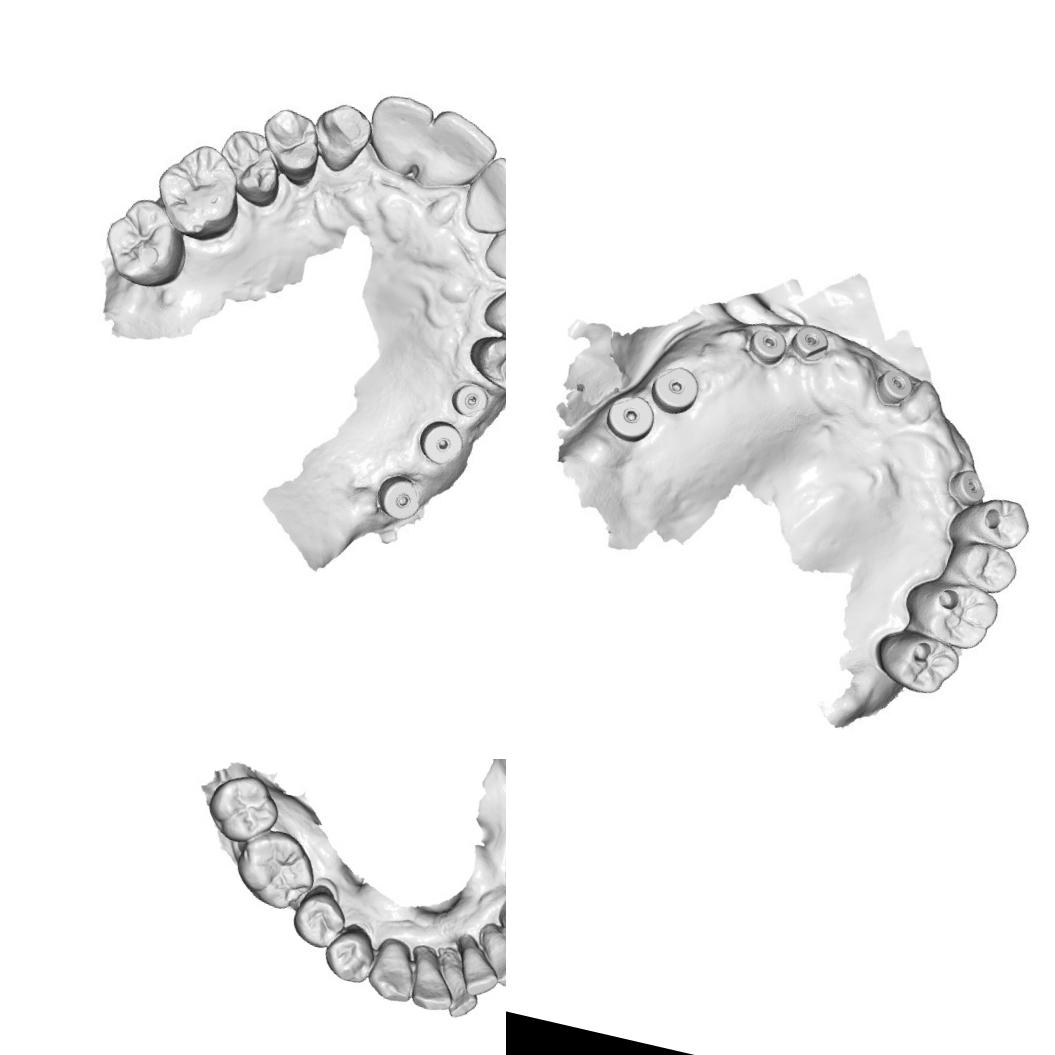canine: (306, 96, 376, 181), (362, 937, 423, 1006), (475, 272, 506, 347)
implant: (601, 388, 659, 448), (646, 362, 704, 418), (373, 469, 429, 526), (448, 379, 506, 433), (416, 415, 466, 468), (740, 321, 790, 372), (786, 319, 834, 368), (946, 460, 989, 509), (871, 365, 916, 410)
incisor: (420, 105, 500, 196), (361, 85, 438, 173), (464, 150, 506, 239), (430, 960, 488, 1024), (404, 954, 463, 1016), (451, 941, 506, 1002), (470, 927, 506, 991), (480, 211, 506, 287)
molar: (148, 136, 250, 247), (94, 190, 199, 295), (227, 822, 325, 916), (200, 764, 288, 852), (872, 626, 962, 702), (907, 578, 1000, 646)
premolar: (254, 102, 330, 193), (210, 124, 288, 207), (285, 886, 353, 954), (945, 538, 1024, 596), (960, 492, 1032, 554), (318, 920, 381, 988), (464, 328, 506, 396)
